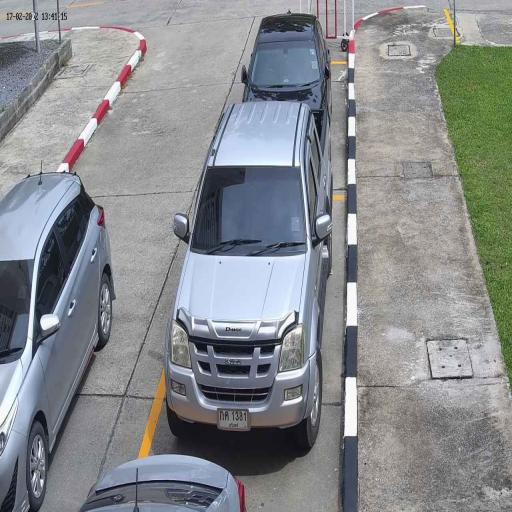car: (163, 101, 334, 452), (0, 171, 115, 511), (75, 454, 249, 512), (242, 12, 331, 118)
